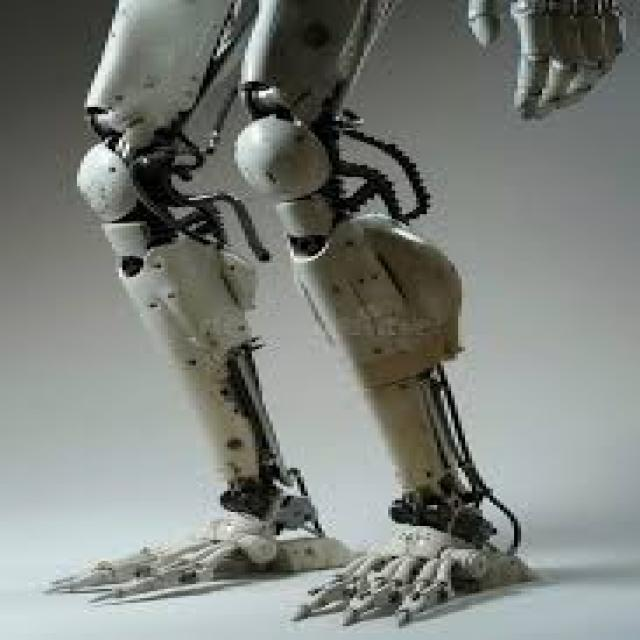humanoid-leg: (245, 152, 532, 622), (48, 161, 351, 603)
